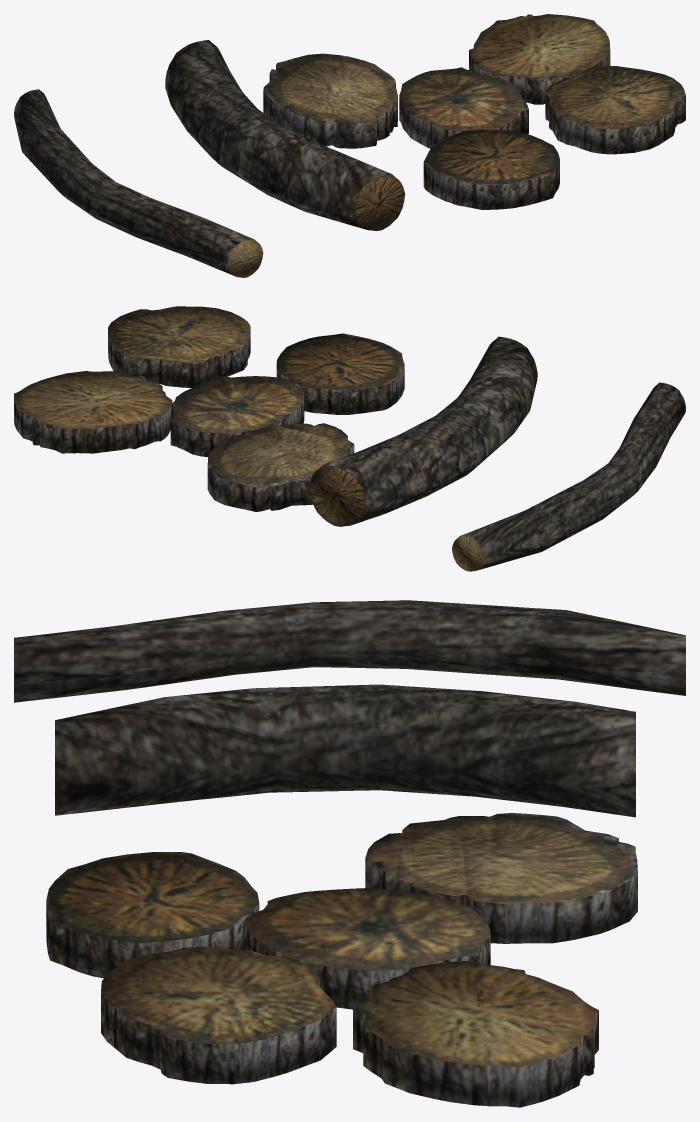
Rendered from chishso.FBX.
3 renders of one model, top to bottom at view 1: azimuth 30°, elevation 25°; view 2: azimuth 150°, elevation 25°; view 3: azimuth 270°, elevation 25°, orthographic. The views are drawn at different scales.
Parts seen in each view (by area): view 1: Line006, Line007, Line003, Line001, Line005, Line004, Line002; view 2: Line006, Line007, Line004, Line001, Line003, Line005, Line002; view 3: Line006, Line007, Line004, Line001, Line003, Line005, Line002.
Part boxes in pixels (x1=…): Line006: x1=165, y1=40, x2=405, y2=230; Line007: x1=14, y1=89, x2=263, y2=277; Line003: x1=263, y1=53, x2=397, y2=148; Line001: x1=545, y1=66, x2=685, y2=154; Line005: x1=423, y1=129, x2=559, y2=209; Line004: x1=469, y1=14, x2=610, y2=104; Line002: x1=399, y1=67, x2=528, y2=148; Line006: x1=309, y1=336, x2=537, y2=526; Line007: x1=452, y1=382, x2=685, y2=571; Line004: x1=14, y1=371, x2=172, y2=453; Line001: x1=108, y1=306, x2=250, y2=387; Line003: x1=207, y1=423, x2=354, y2=511; Line005: x1=276, y1=333, x2=404, y2=414; Line002: x1=170, y1=376, x2=304, y2=456; Line006: x1=55, y1=684, x2=635, y2=817; Line007: x1=14, y1=600, x2=685, y2=702; Line004: x1=353, y1=961, x2=598, y2=1107; Line001: x1=101, y1=946, x2=336, y2=1084; Line003: x1=365, y1=813, x2=637, y2=943; Line005: x1=46, y1=852, x2=259, y2=978; Line002: x1=242, y1=888, x2=490, y2=1009.
Size of the model in its own units: 53.51 by 6.01 by 33.93.
